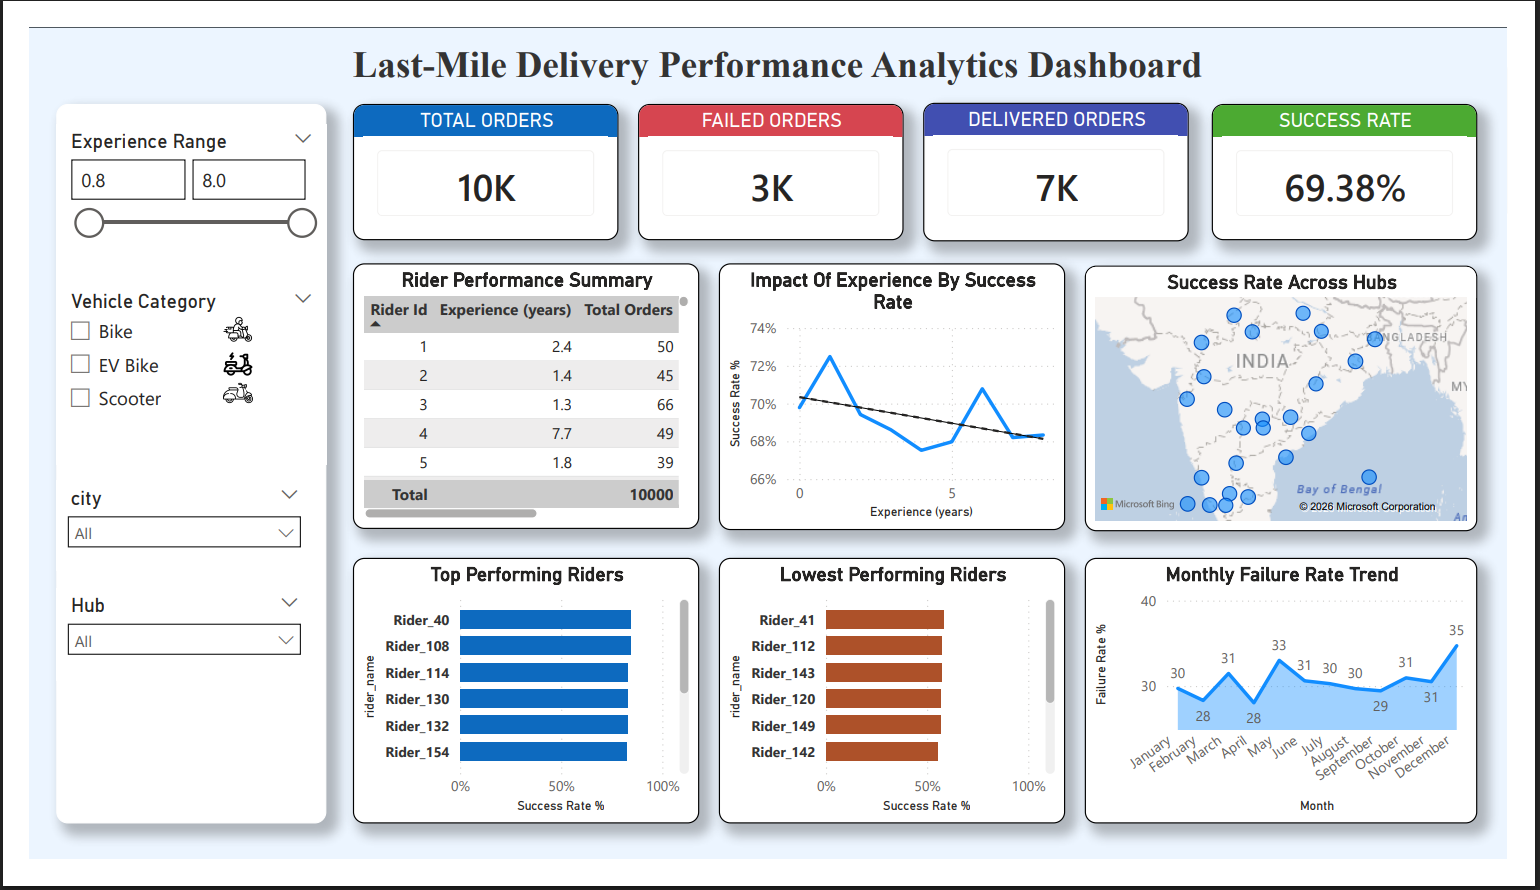

The page's visual inventory and layout, read from the dashboard file:
{"tool":"powerbi","page":{"name":"Page 1","canvas":[1280,720],"ordinal":0},"visuals":[{"type":"shape","box":[23.3,65.6,233.3,623.3],"z":0},{"type":"cardVisual","title":"TOTAL ORDERS","fields":{"Data":["orders.Total Orders"]},"box":[280,65.6,230,118.9],"z":1000},{"type":"cardVisual","title":"DELIVERED ORDERS","fields":{"Data":["orders.Delivered Orders"]},"box":[773.9,65.2,230.4,119.6],"z":2000},{"type":"cardVisual","title":"FAILED ORDERS","fields":{"Data":["orders.Failed Orders"]},"box":[526.7,65.6,230,118.9],"z":3000},{"type":"cardVisual","title":"SUCCESS RATE","fields":{"Data":["orders.Success Rate %"]},"box":[1024.4,65.6,230,118.9],"z":4000},{"type":"tableEx","title":"Rider Performance Summary","fields":{"Values":["riders.rider_id","riders.experience_years","orders.Total Orders","orders.Delivered Orders","orders.Success Rate %"]},"box":[280.4,204.3,300,230],"z":5000},{"type":"clusteredBarChart","title":"Top Performing Riders","fields":{"Y":["orders.Success Rate %"],"Category":["riders.rider_name"]},"box":[280,458.9,300,230],"z":6000},{"type":"clusteredBarChart","title":"Lowest Performing Riders","fields":{"Y":["orders.Success Rate %"],"Category":["riders.rider_name"]},"box":[596.7,458.9,300,230],"z":7000},{"type":"lineChart","title":"Impact Of Experience By Success Rate","fields":{"Category":["riders.experience_years (bins)"],"Y":["orders.Success Rate %"]},"box":[596.7,204.3,300,230.4],"z":8000},{"type":"map","title":"Success Rate Across Hubs","fields":{"Y":["hubs.latitude"],"X":["hubs.longitude"],"Size":["orders.Success Rate %"]},"box":[914.4,205.6,340,230],"z":9000},{"type":"slicer","fields":{"Values":["hubs.hub_id"]},"box":[22.8,484.8,221.7,80.4],"z":10000},{"type":"slicer","fields":{"Values":["riders.experience_years"]},"box":[22.8,82.6,233.7,173.9],"z":11000},{"type":"slicer","fields":{"Values":["riders.vehicle_type"]},"box":[22.8,221.7,233.7,156.5],"z":12000},{"type":"slicer","fields":{"Values":["customers.city"]},"box":[22.8,392.4,221.7,77.2],"z":13000},{"type":"areaChart","title":"Monthly Failure Rate Trend","fields":{"Category":["orders.order_time.Variation.Date Hierarchy.Month"],"Y":["orders.Failure Rate %"]},"box":[914.4,458.9,340,230],"z":14000},{"type":"image","box":[165.2,248.9,30.4,25],"z":14001},{"type":"image","box":[165.2,279.3,30.4,25],"z":14002},{"type":"image","box":[165.2,304.3,30.4,25],"z":14003},{"type":"textbox","box":[91.3,8.7,1114.1,48.9],"z":14005}]}

Visuals, with their boxes in screenshot pixels (x1, y1, x2, y2), scaled from the page's 1280x720 canvas onto the 1540x890 screenshot:
shape: [28, 81, 309, 852]
"TOTAL ORDERS" cardVisual: [337, 81, 614, 228]
"DELIVERED ORDERS" cardVisual: [931, 81, 1208, 228]
"FAILED ORDERS" cardVisual: [634, 81, 910, 228]
"SUCCESS RATE" cardVisual: [1232, 81, 1509, 228]
"Rider Performance Summary" tableEx: [337, 253, 698, 537]
"Top Performing Riders" clusteredBarChart: [337, 567, 698, 852]
"Lowest Performing Riders" clusteredBarChart: [718, 567, 1079, 852]
"Impact Of Experience By Success Rate" lineChart: [718, 253, 1079, 537]
"Success Rate Across Hubs" map: [1100, 254, 1509, 538]
slicer - hubs.hub_id: [27, 599, 294, 699]
slicer - riders.experience_years: [27, 102, 309, 317]
slicer - riders.vehicle_type: [27, 274, 309, 467]
slicer - customers.city: [27, 485, 294, 580]
"Monthly Failure Rate Trend" areaChart: [1100, 567, 1509, 852]
image: [199, 308, 235, 339]
image: [199, 345, 235, 376]
image: [199, 376, 235, 407]
textbox: [110, 11, 1450, 71]
